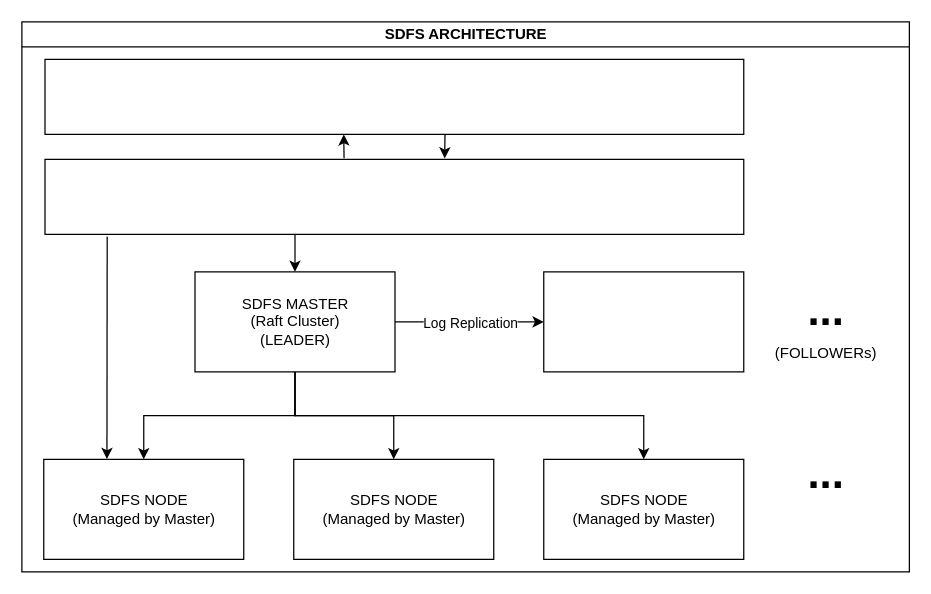
Some shapes in this 931 by 594 pixel diagram are drawn without their labels. Each missing label, with the box of its shape:
Go API: (44, 58, 744, 134)
SDFS HTTP API: (44, 158, 744, 234)
SDFS MASTER (Raft Cluster) (FOLLOWER): (542, 271, 744, 372)
